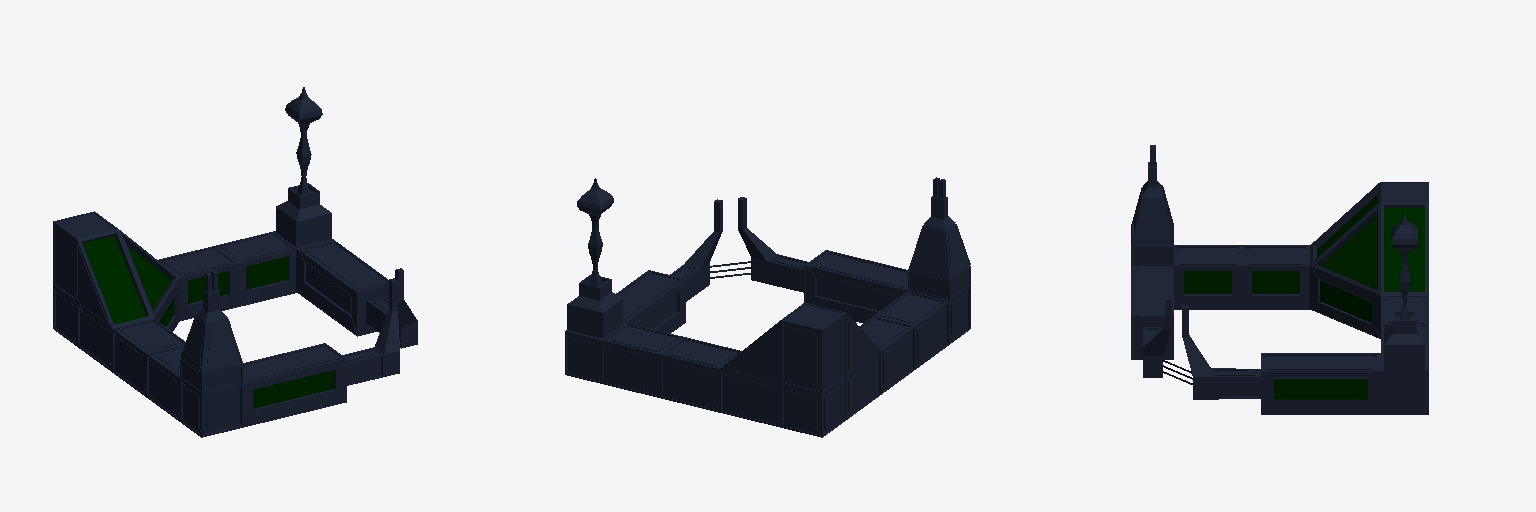
The model's file is ordos.obj.
3 views of the same model, side by side, from view 1: azimuth 30°, elevation 25°; view 2: azimuth 150°, elevation 25°; view 3: azimuth 270°, elevation 25° (orthographic).
Parts seen in each view (by area): view 1: Cube (2), Cube; view 2: Cube (2), Cube; view 3: Cube (2), Cube.
Part boxes in pixels (x1,y1,x2,y2): Cube (2): (53, 211, 417, 437); Cube: (276, 87, 331, 247); Cube (2): (565, 177, 970, 437); Cube: (567, 178, 622, 338); Cube (2): (1131, 145, 1428, 414); Cube: (1384, 214, 1424, 381).
Size of the model in its own units: 6.17 by 4.39 by 6.17.